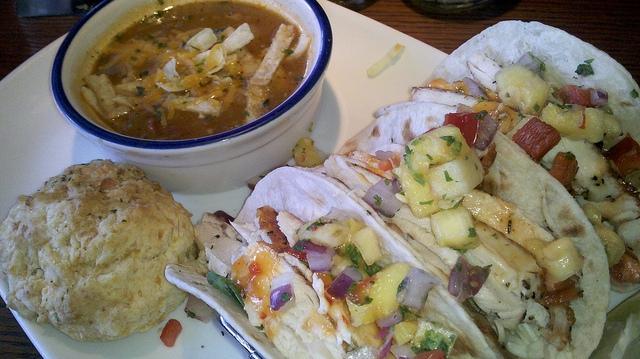onion: (448, 256, 490, 304), (396, 268, 444, 310), (442, 110, 488, 148), (362, 178, 404, 217), (327, 266, 362, 299), (270, 272, 296, 312), (474, 114, 498, 151), (303, 246, 335, 272), (375, 326, 394, 359), (374, 307, 402, 329), (390, 342, 417, 358), (300, 241, 328, 253), (590, 88, 608, 104)
